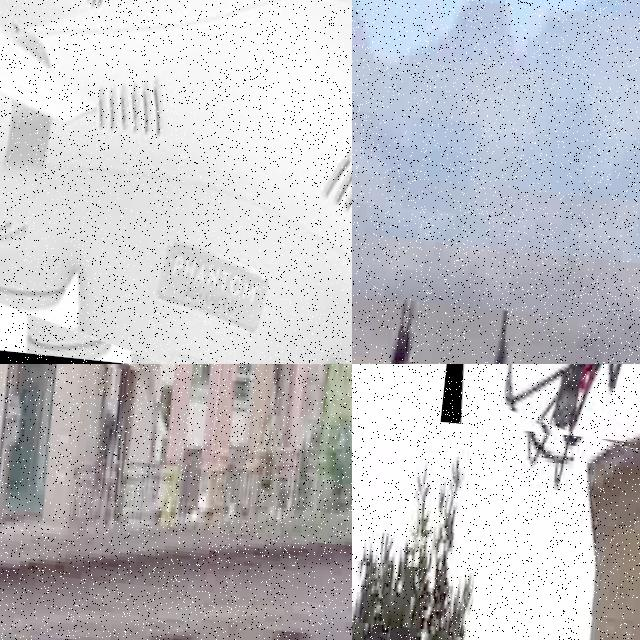drone: (0, 0, 352, 364), (440, 364, 640, 449)
